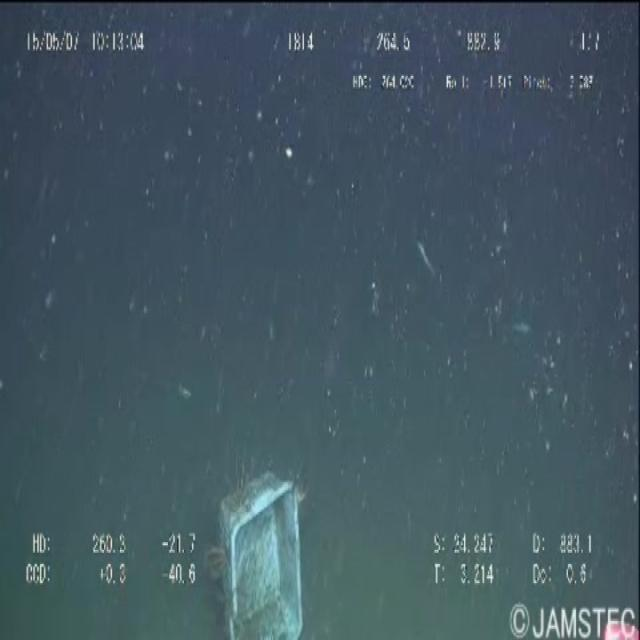Cutlery: (197, 451, 335, 640)
